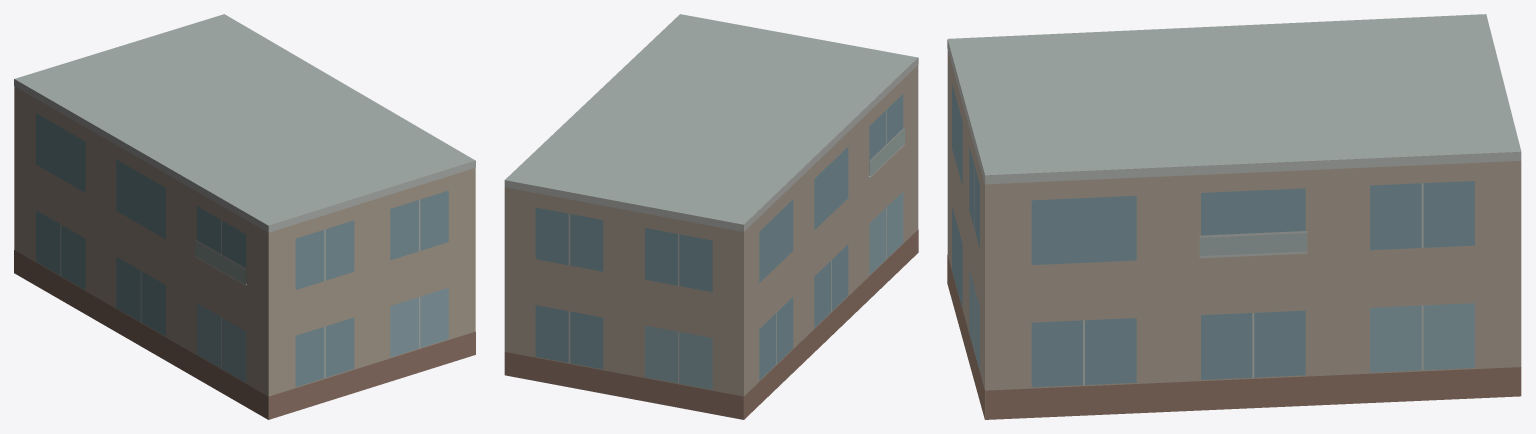
File: survey-upis-32619325.glb
3 views of the same model, side by side, from view 1: azimuth 30°, elevation 25°; view 2: azimuth 150°, elevation 25°; view 3: azimuth 270°, elevation 25° (orthographic). The views are drawn at different scales.
Parts seen in each view (by area): view 1: survey-upis-32619325.tmp; view 2: survey-upis-32619325.tmp; view 3: survey-upis-32619325.tmp.
Part boxes in pixels (x1=…): survey-upis-32619325.tmp: x1=14, y1=14, x2=475, y2=419; survey-upis-32619325.tmp: x1=504, y1=14, x2=918, y2=419; survey-upis-32619325.tmp: x1=947, y1=14, x2=1521, y2=419.
Bounding box in the file's own units: 9.35 × 6.6 × 14.05.
